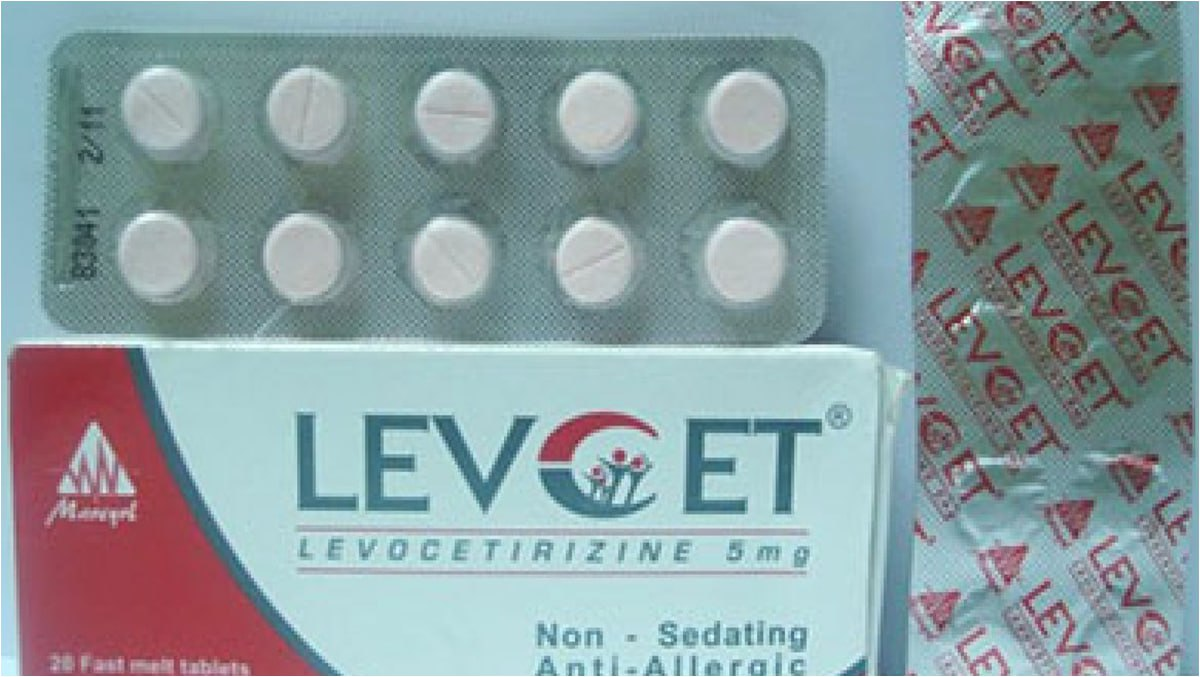Medicine: (4, 324, 890, 677), (896, 4, 1200, 677)
